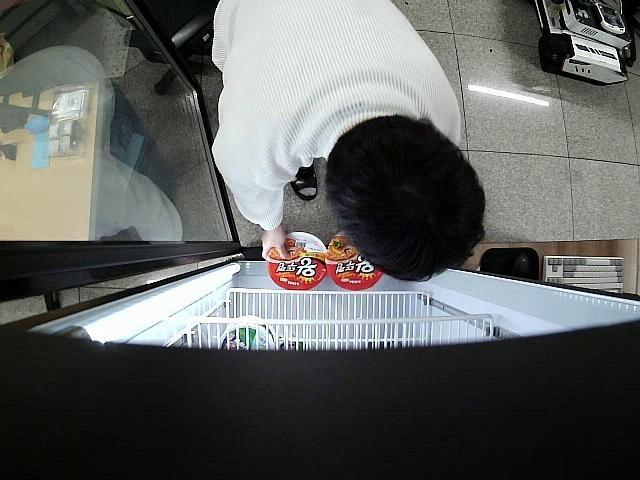10_wangTtukkeong: (268, 231, 324, 290)
